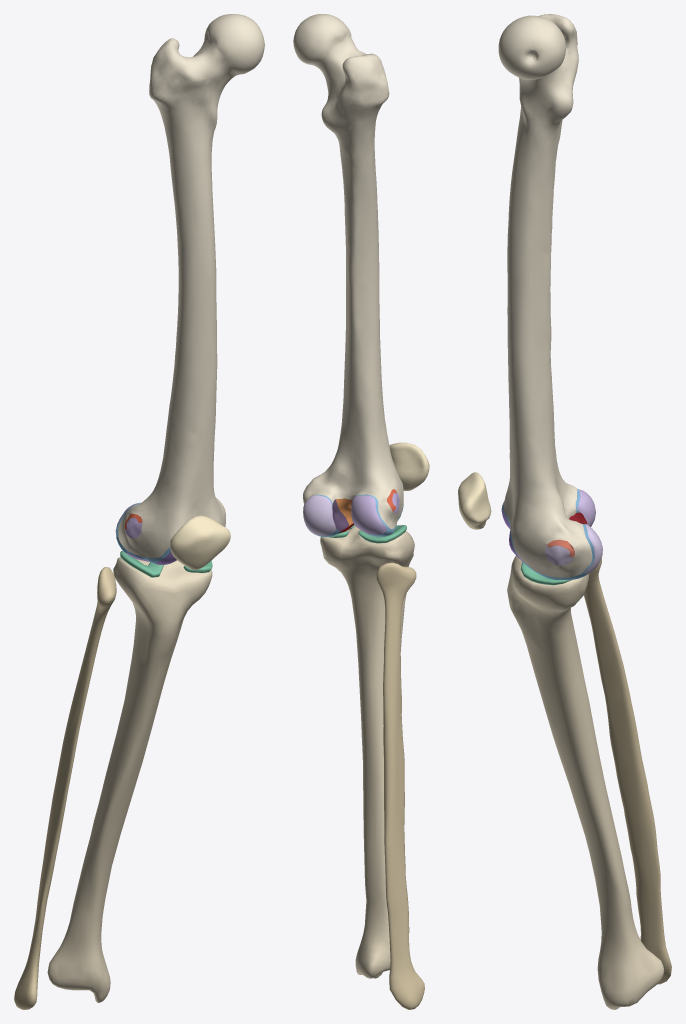
The model's file is joelho.glb.
The picture shows the model from 3 angles, left to right: view 1: azimuth 30°, elevation 25°; view 2: azimuth 150°, elevation 25°; view 3: azimuth 270°, elevation 25°; orthographic projection. The views are drawn at different scales.
Visible parts, largest first — view 1: VH_M_femur_R, VH_M_tibia_R, VH_M_fibula_R, VH_M_patella_R, VH_M_meniscus_R; view 2: VH_M_femur_R, VH_M_tibia_R, VH_M_fibula_R, VH_M_patella_R, VH_M_medial_condyle_of_right_femur_inf, VH_M_lateral_condyle_of_femur_inf_R, VH_M_meniscus_R, VH_M_articular_cartilage_of_knee_R; view 3: VH_M_femur_R, VH_M_tibia_R, VH_M_fibula_R, VH_M_patella_R, VH_M_articular_cartilage_of_knee_R.
Part boxes in pixels (bbox=[...]): VH_M_femur_R: bbox=[118, 14, 264, 558]; VH_M_tibia_R: bbox=[47, 557, 212, 1002]; VH_M_fibula_R: bbox=[14, 567, 116, 1009]; VH_M_patella_R: bbox=[170, 515, 230, 569]; VH_M_meniscus_R: bbox=[120, 550, 212, 577]; VH_M_femur_R: bbox=[293, 14, 403, 528]; VH_M_tibia_R: bbox=[320, 526, 414, 978]; VH_M_fibula_R: bbox=[376, 562, 424, 1009]; VH_M_patella_R: bbox=[389, 442, 429, 491]; VH_M_medial_condyle_of_right_femur_inf: bbox=[303, 495, 336, 535]; VH_M_lateral_condyle_of_femur_inf_R: bbox=[351, 495, 386, 534]; VH_M_meniscus_R: bbox=[329, 525, 406, 543]; VH_M_articular_cartilage_of_knee_R: bbox=[315, 484, 403, 536]; VH_M_femur_R: bbox=[498, 14, 592, 577]; VH_M_tibia_R: bbox=[507, 555, 664, 1009]; VH_M_fibula_R: bbox=[583, 557, 671, 984]; VH_M_patella_R: bbox=[458, 472, 491, 529]; VH_M_articular_cartilage_of_knee_R: bbox=[502, 489, 594, 580].
Bounding box in the file's own units: 0.1734 × 0.8875 × 0.1646.
